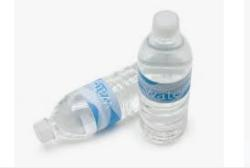bottle: (30, 60, 142, 146), (135, 8, 192, 148)
